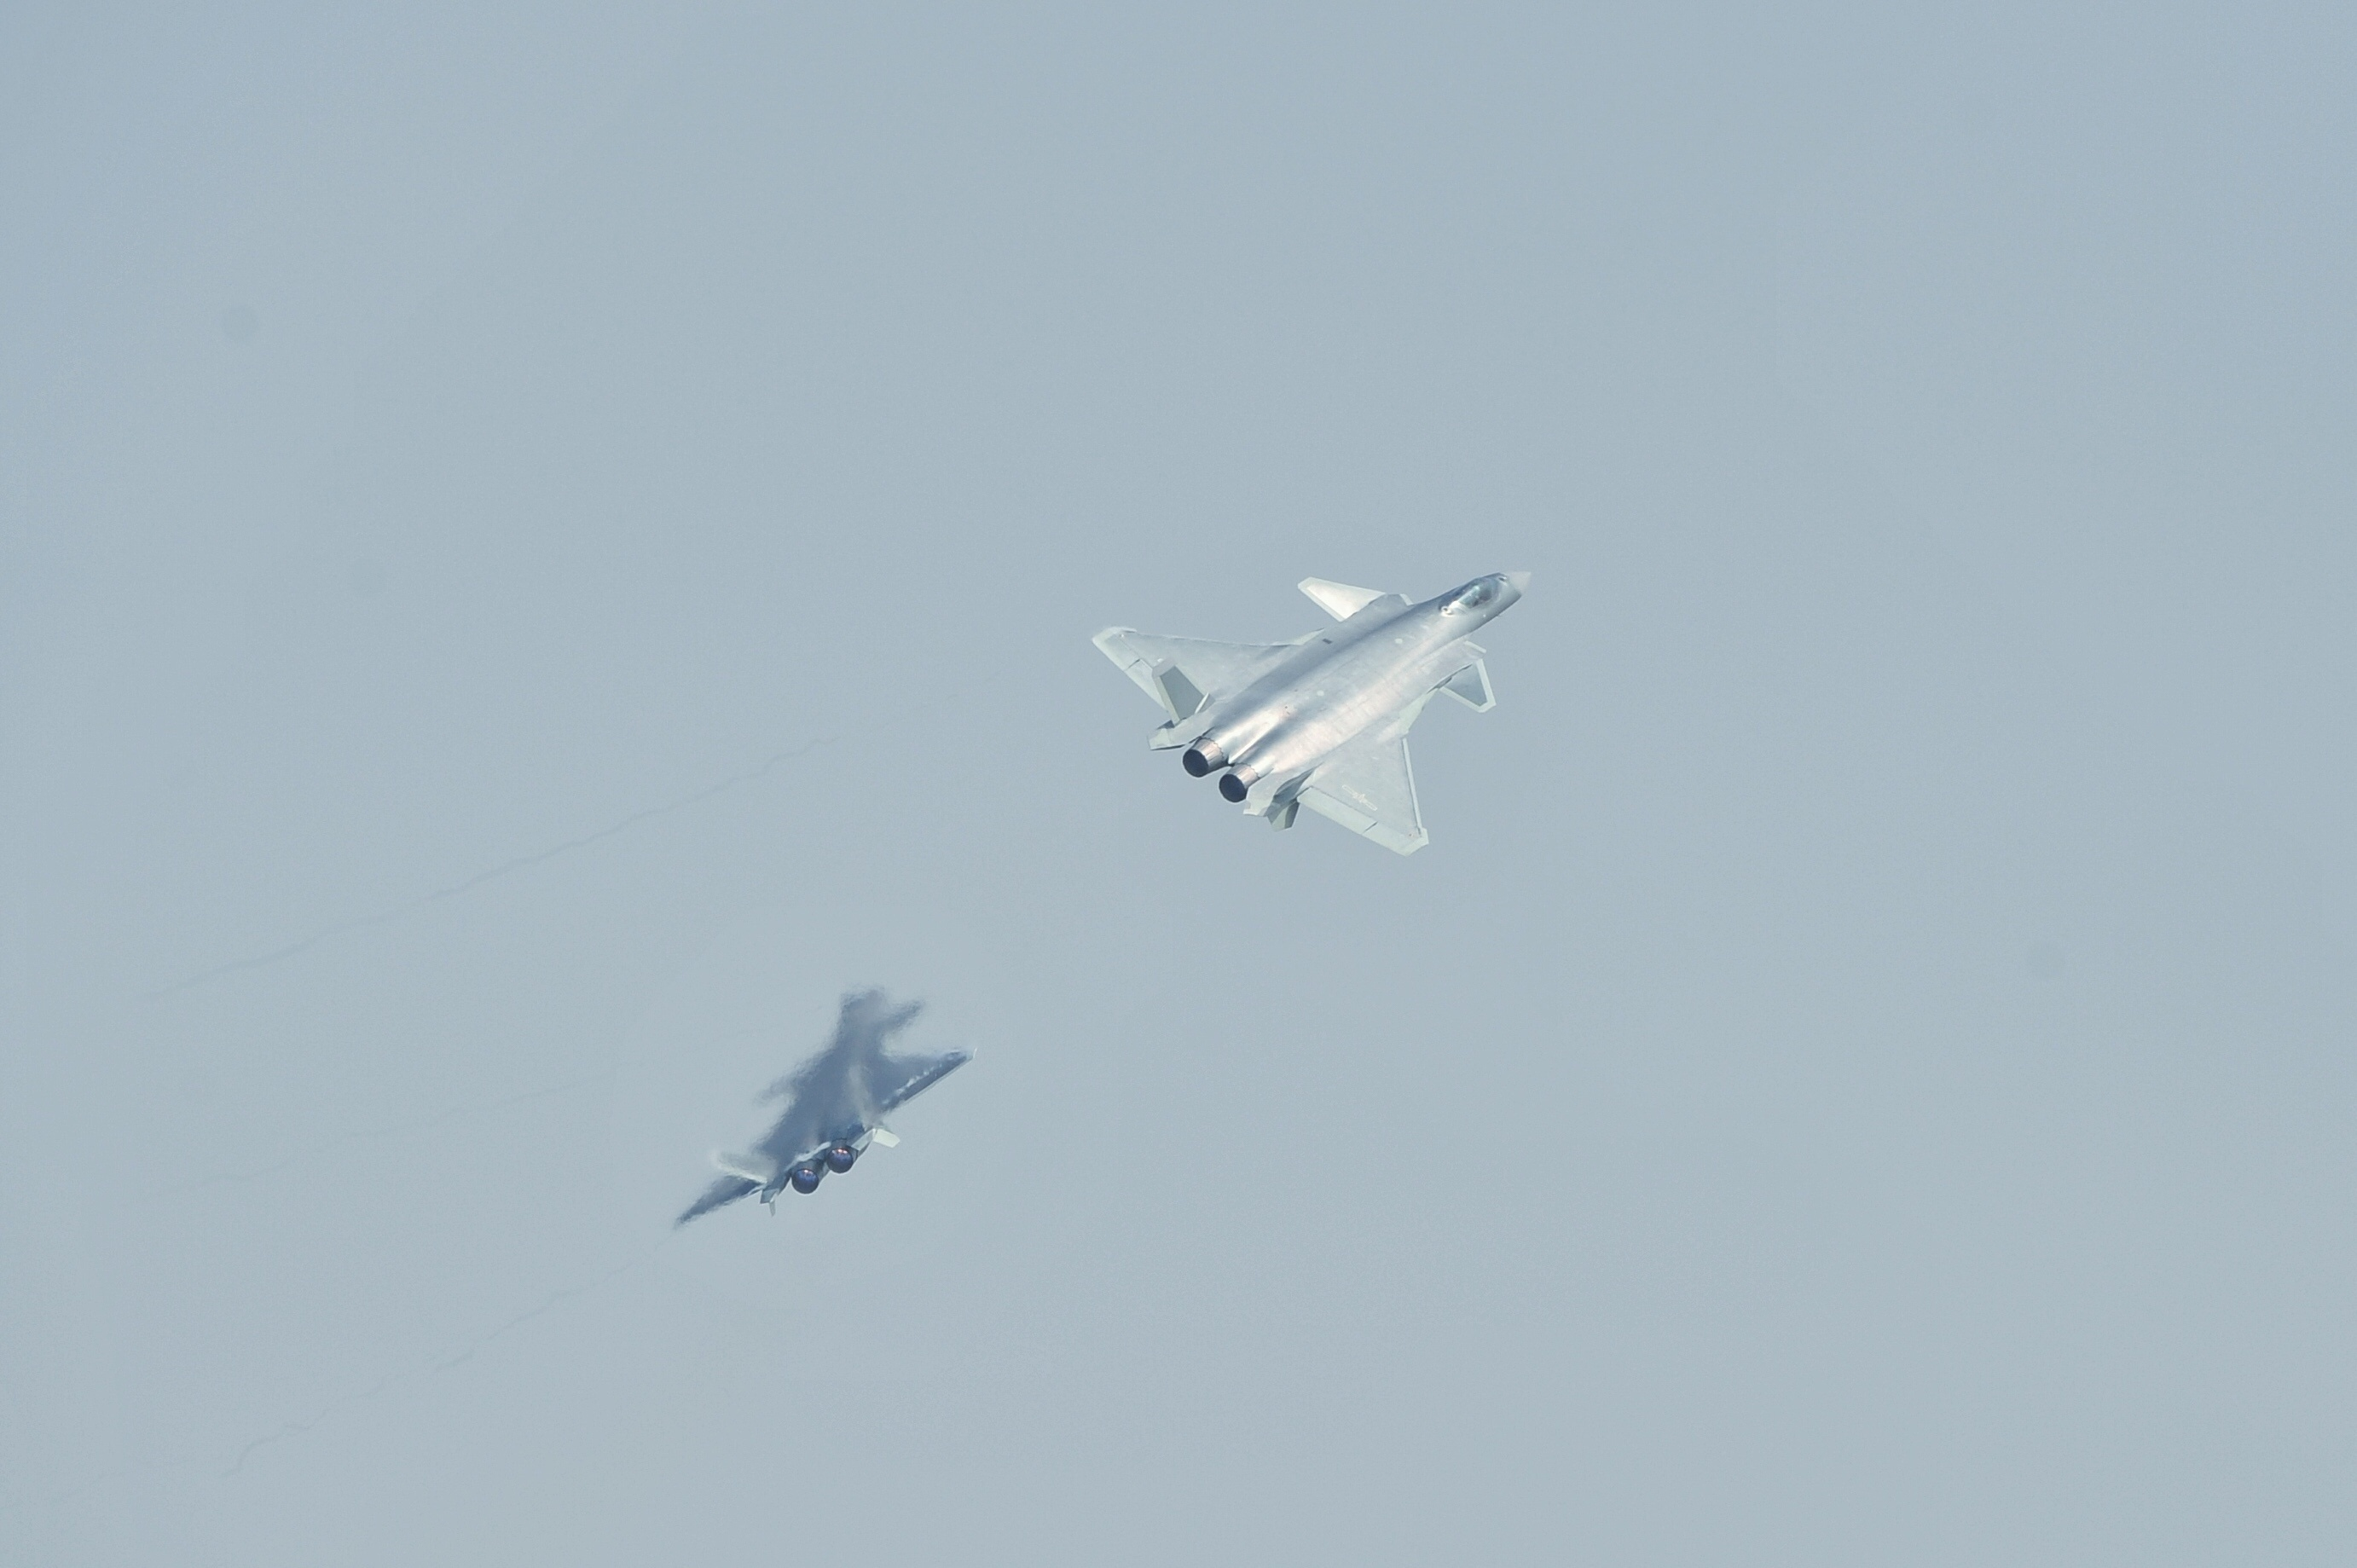J20: (1090, 569, 1531, 859), (674, 984, 978, 1230)
